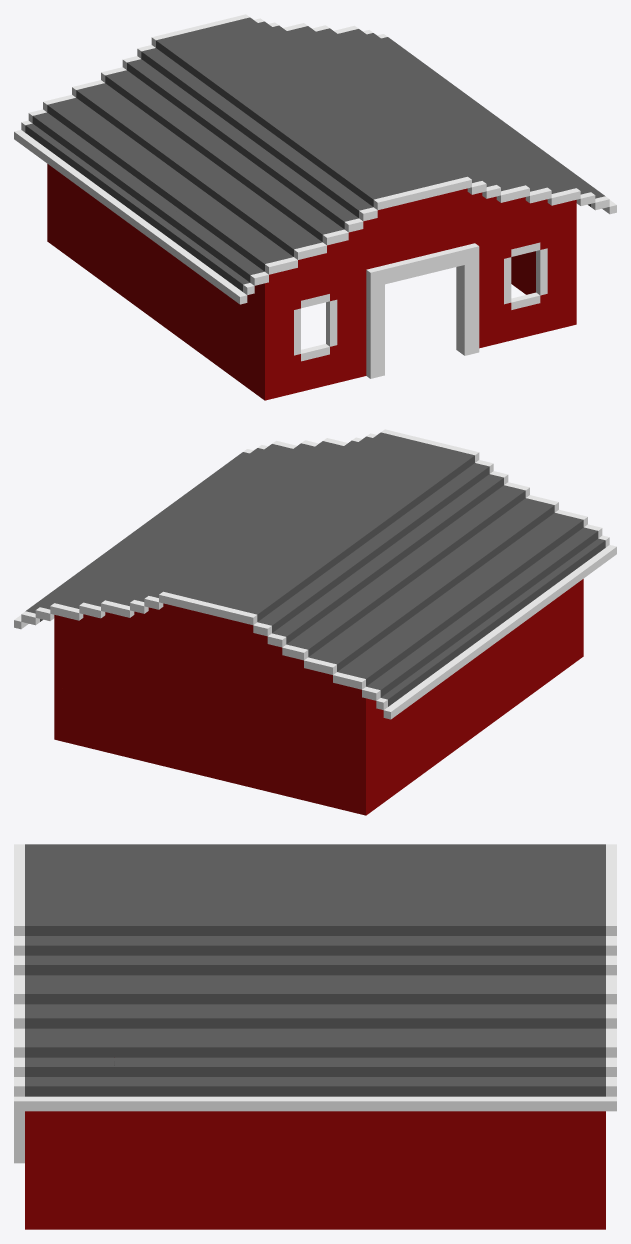
Rendered from Granja.fbx.
3 views of the same model, one above another, from view 1: azimuth 30°, elevation 25°; view 2: azimuth 150°, elevation 25°; view 3: azimuth 270°, elevation 25° (orthographic). The views are drawn at different scales.
Parts seen in each view (by area): view 1: granja_52x23x54; view 2: granja_52x23x54; view 3: granja_52x23x54.
Boxes of the visible parts, <box> form: granja_52x23x54: <box>14,14,616,400</box>; granja_52x23x54: <box>14,429,616,815</box>; granja_52x23x54: <box>14,844,616,1229</box>.
Bounding box in the file's own units: 981 × 434 × 1019.
